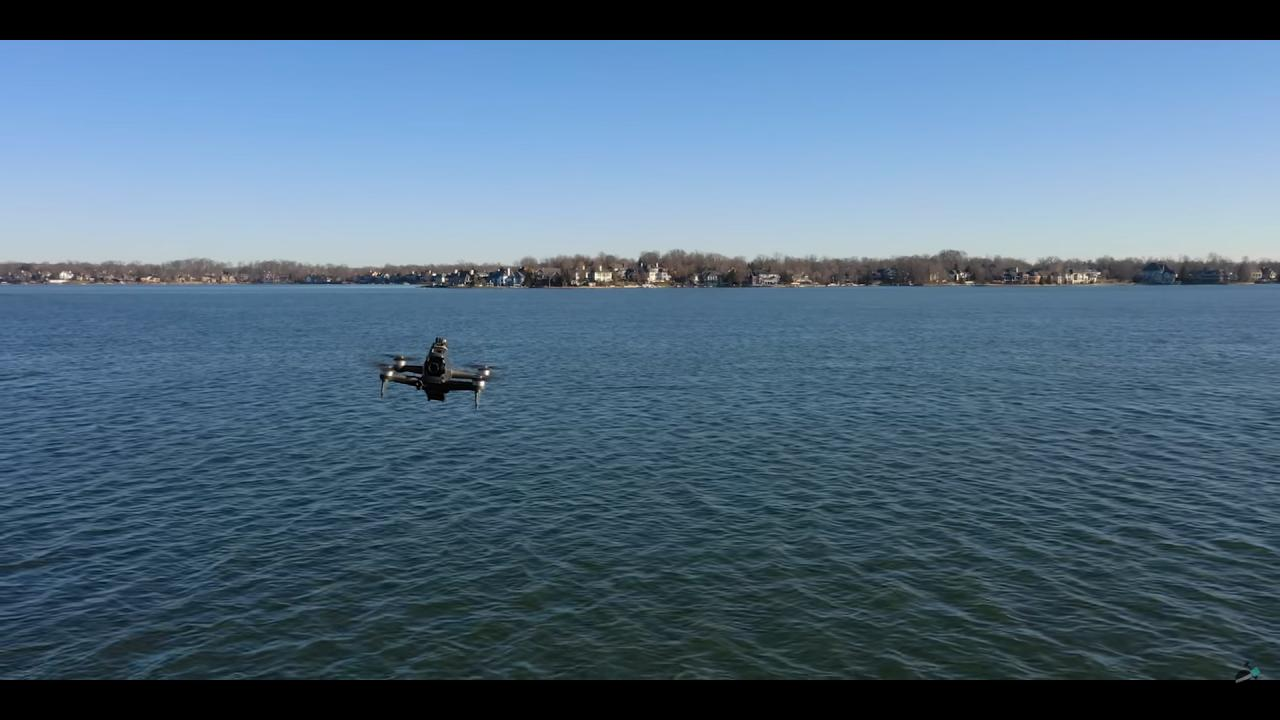Drone: (365, 330, 498, 416)
